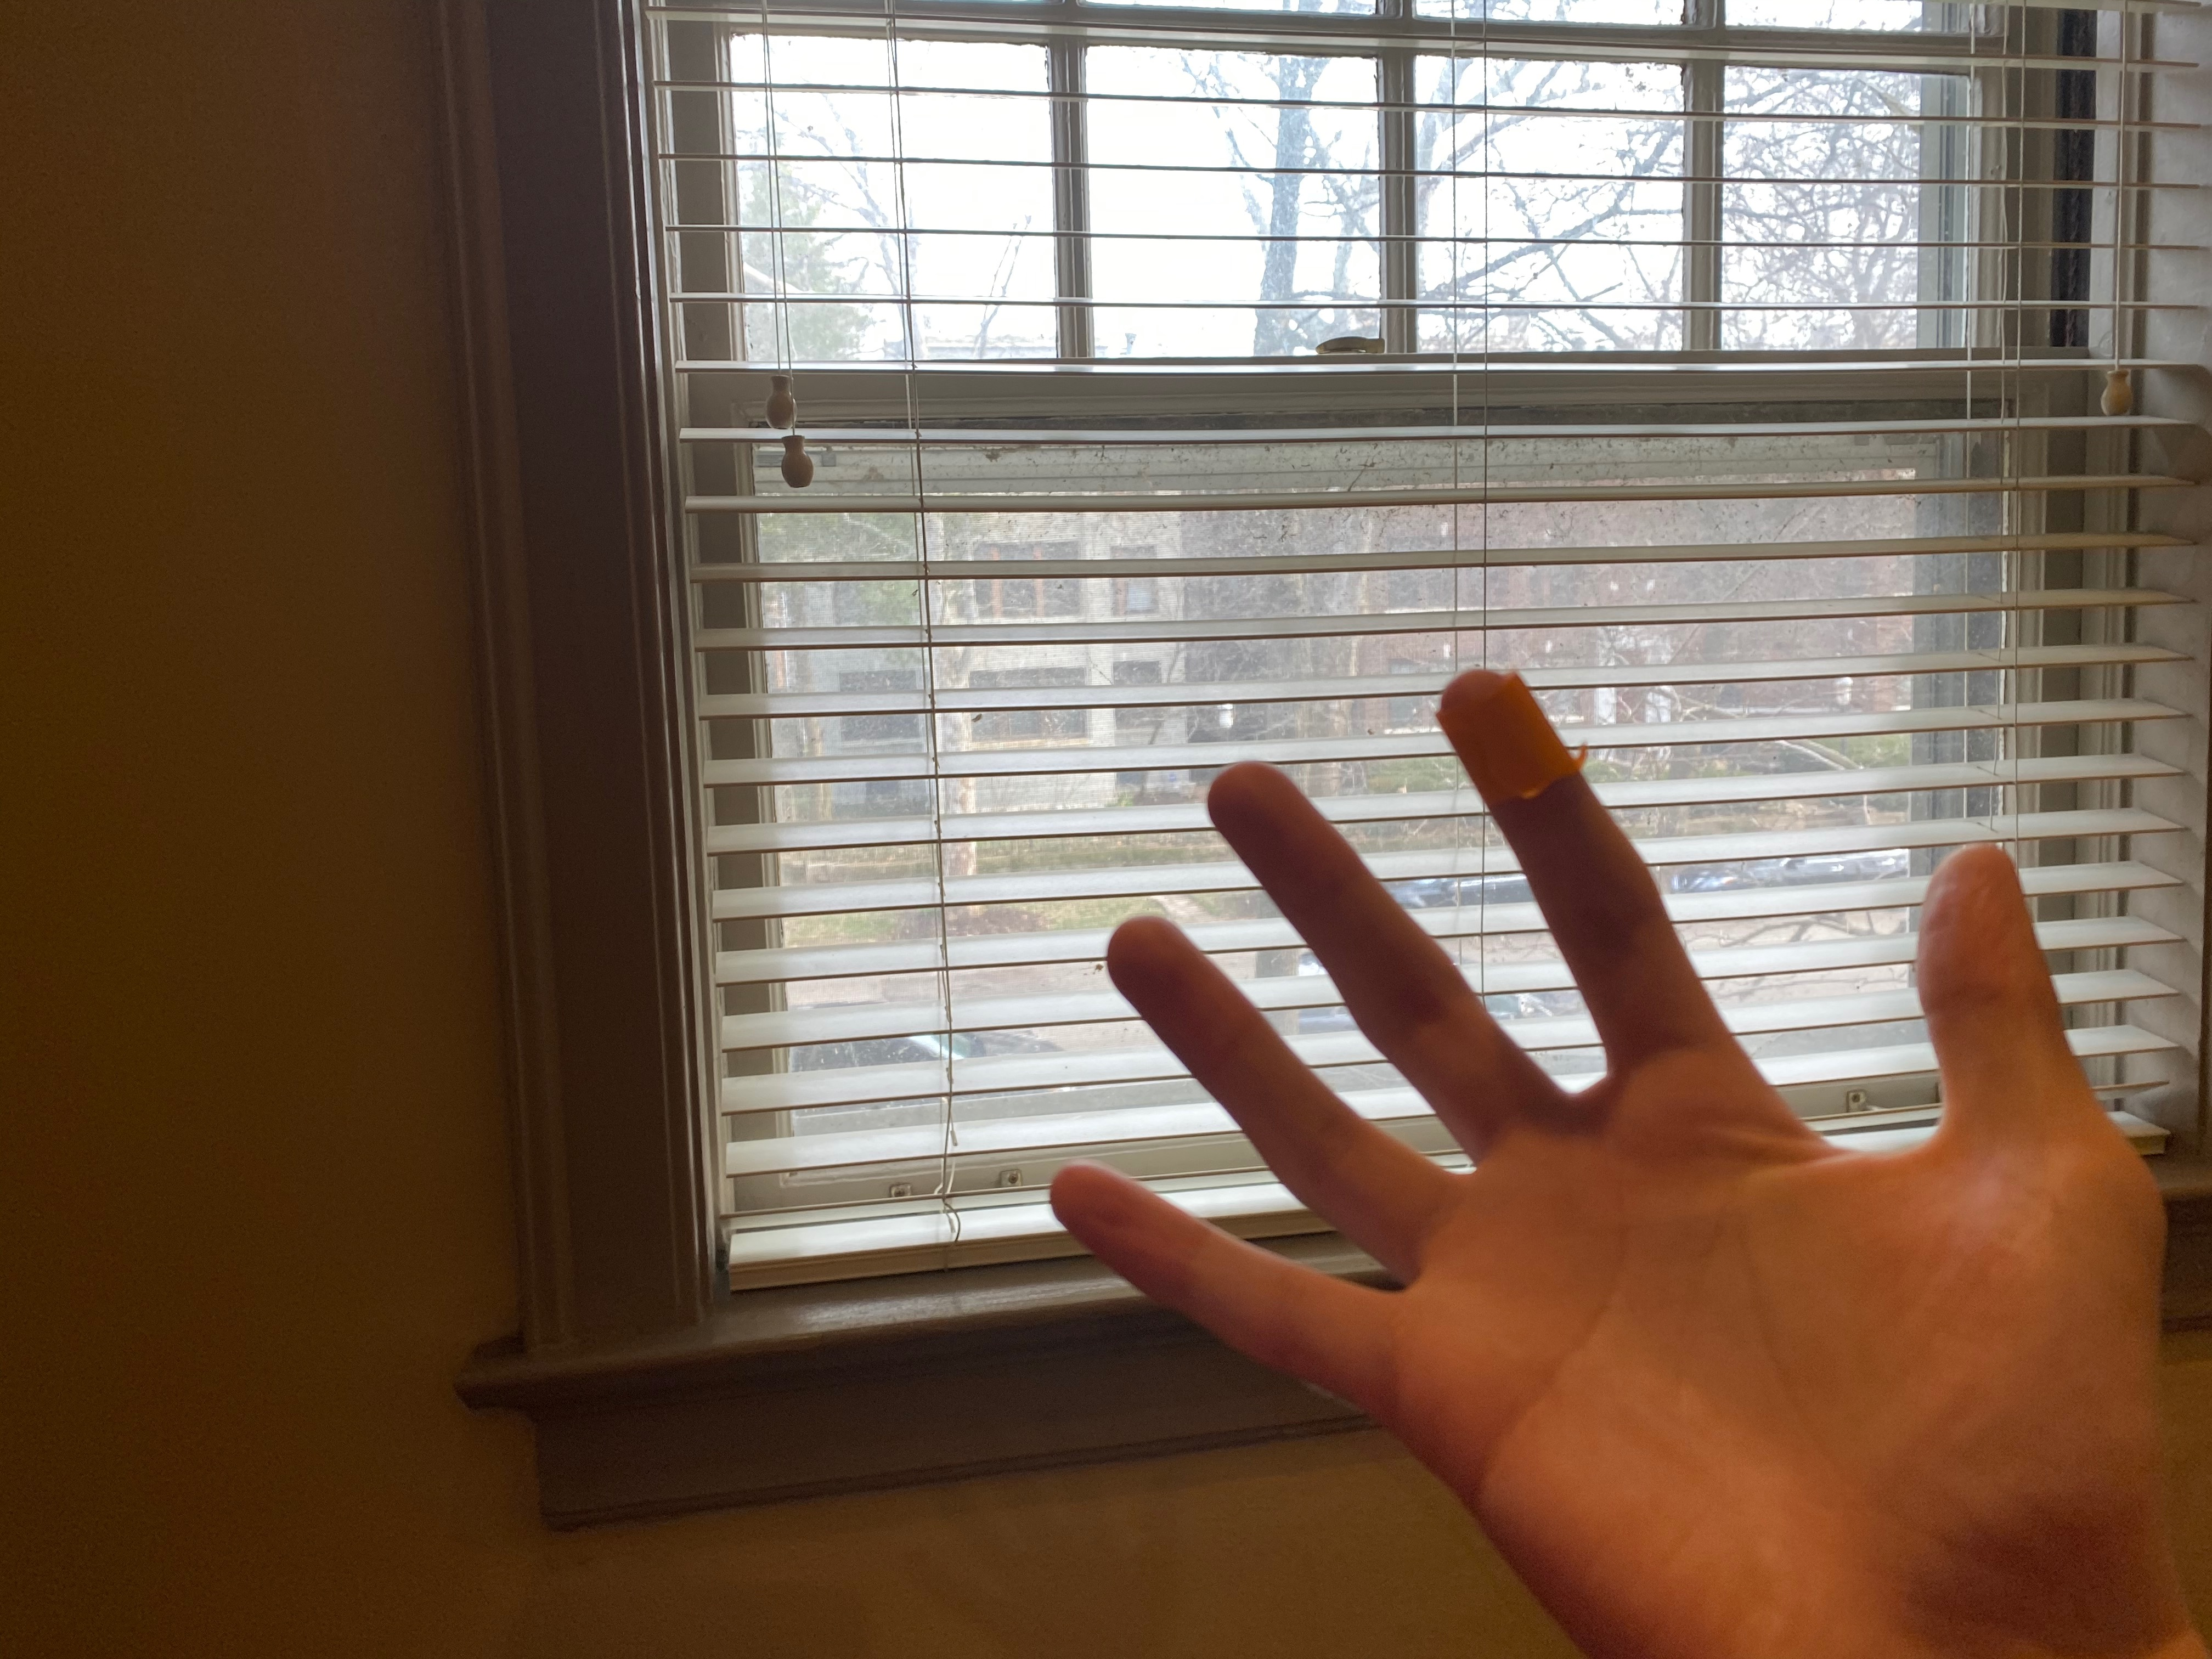fingertip: (1400, 653, 1606, 817)
